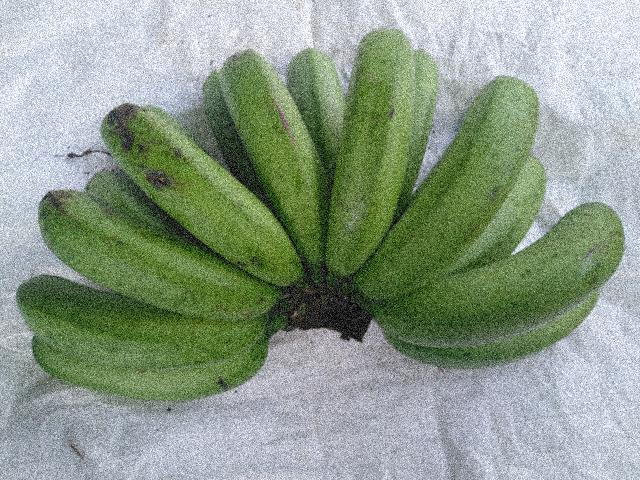rotten: (92, 95, 202, 208)
unripe: (348, 70, 542, 308), (211, 40, 363, 302), (89, 84, 287, 261), (388, 189, 617, 342), (16, 188, 246, 307), (13, 273, 253, 368), (328, 20, 415, 273)
